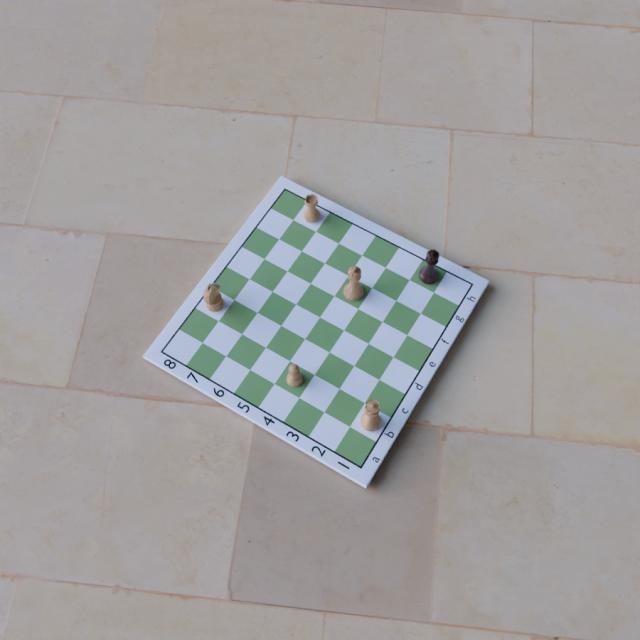black-king: (418, 248, 441, 286)
white-king: (343, 264, 365, 303)
white-knight: (204, 282, 224, 313)
white-pawn: (286, 362, 304, 389)
white-queen: (359, 396, 382, 434)
white-rook: (303, 192, 320, 224)
